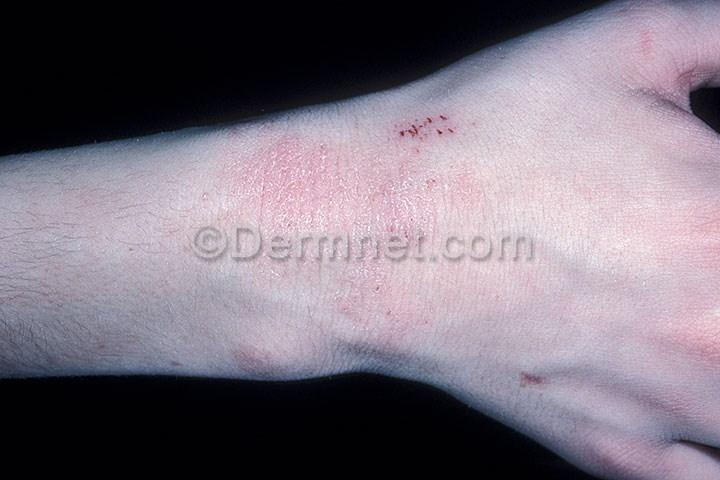exudacion 1: (378, 100, 479, 152)
